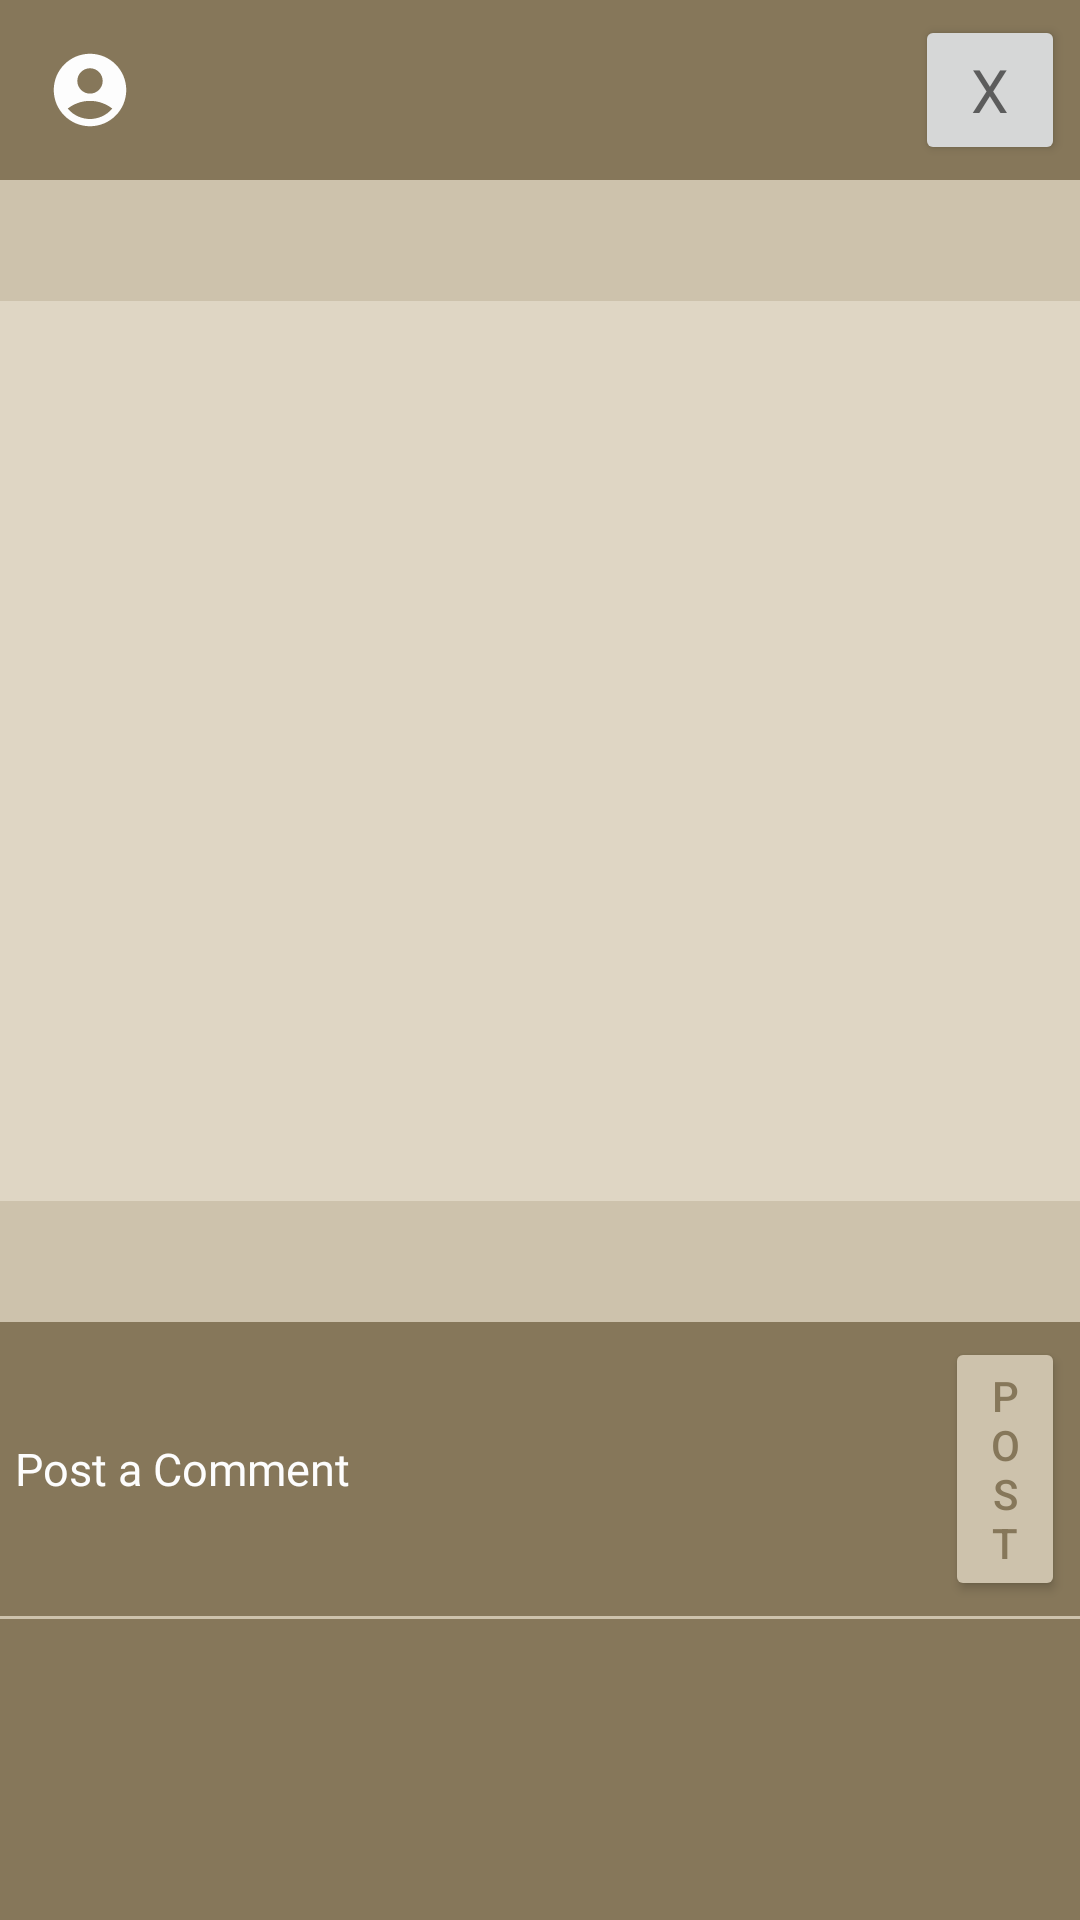

Icons on this 1080x1920 Android screen, each with the point to tap as (x,y):
Profile Picture: (90,90)
